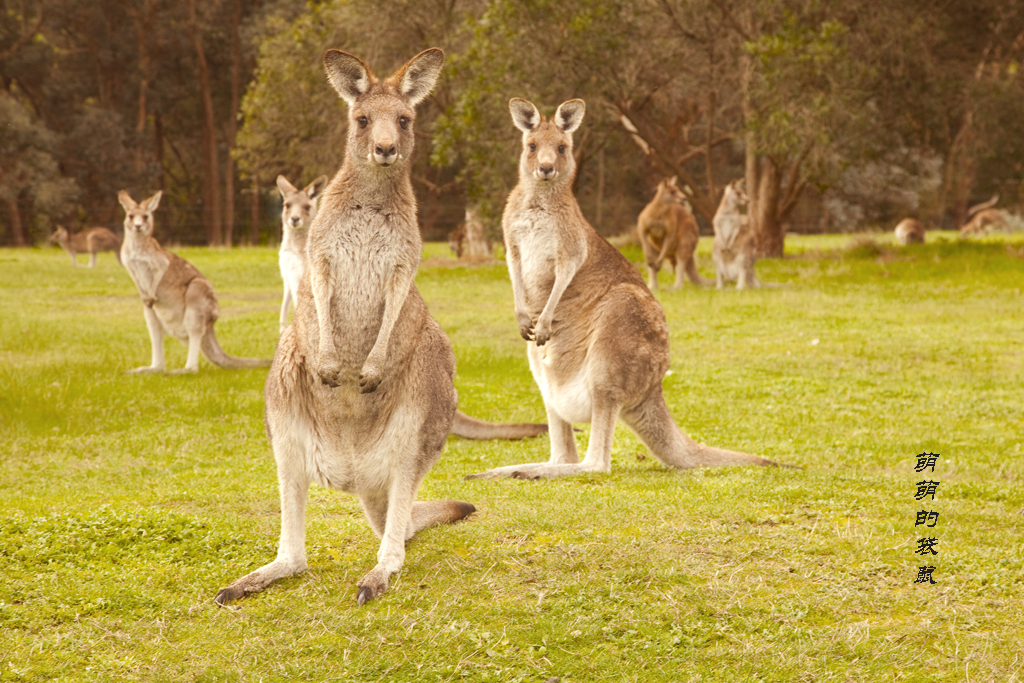kangaroo: (216, 34, 483, 610), (465, 91, 784, 496), (108, 183, 260, 379), (633, 174, 704, 294), (707, 179, 777, 293), (48, 222, 128, 270)
